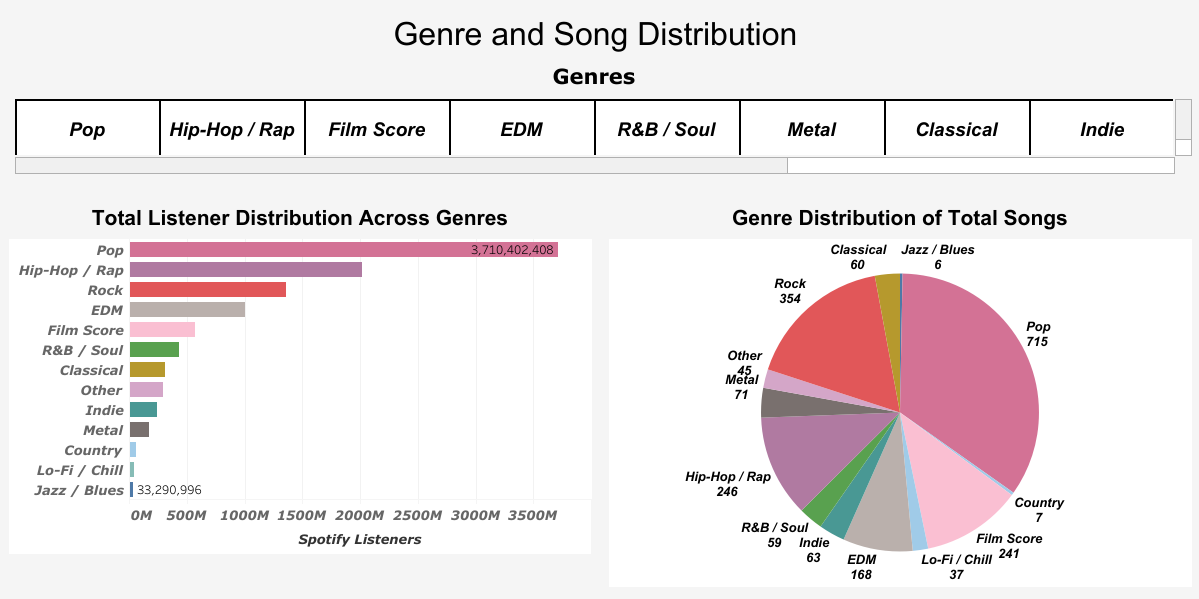

What the dashboard file says about the page in this screenshot:
{"tool":"tableau","page":{"name":"Genre and Song Distribution","canvas":[1200,600],"ordinal":0},"visuals":[{"type":"text","box":[5,2,1181,63]},{"type":"worksheet","title":"Genres","mark":"Text","cols":["classification"],"box":[10,52,1186,126]},{"type":"worksheet","title":"average listeners","mark":"Bar","rows":["classification"],"cols":["listener_fans"],"box":[5,195,590,395]},{"type":"worksheet","title":"Song distribution","mark":"Pie","box":[605,195,590,395]}]}

Visuals, with their boxes in screenshot pixels (x1, y1, x2, y2), scaled from the page's 1200x600 canvas onto the 1199x599 screenshot:
text: (x1=5, y1=2, x2=1185, y2=65)
"Genres" worksheet (Text marks): (x1=10, y1=52, x2=1195, y2=178)
"average listeners" worksheet (Bar marks): (x1=5, y1=195, x2=595, y2=589)
"Song distribution" worksheet (Pie marks): (x1=604, y1=195, x2=1194, y2=589)
